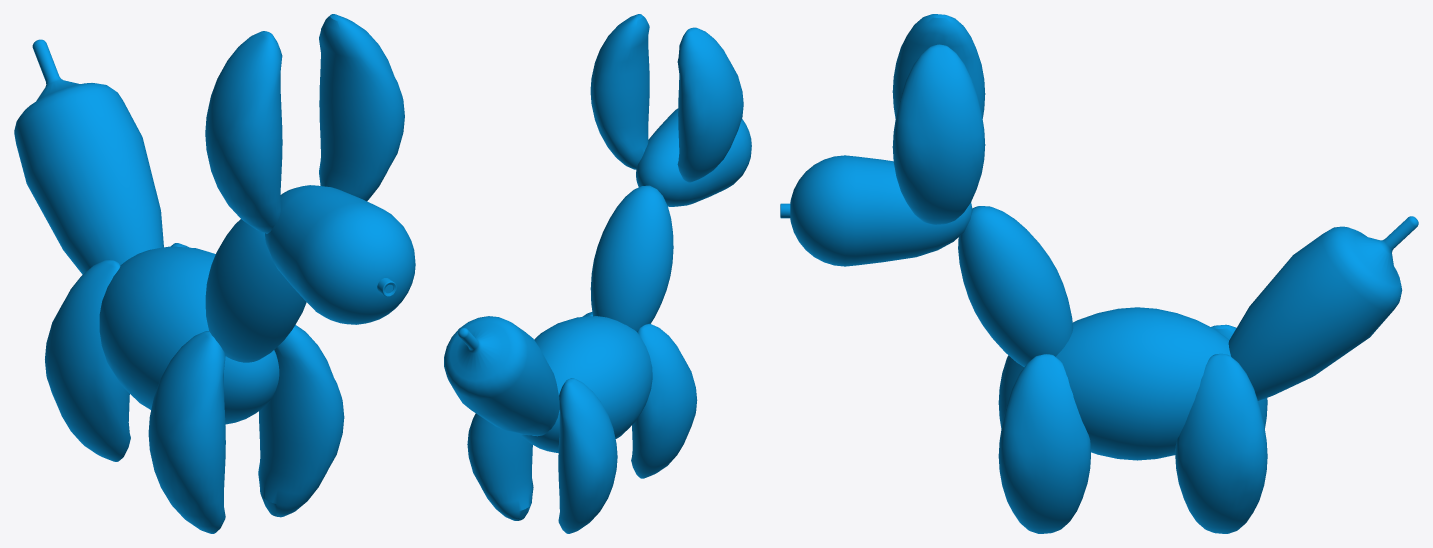
File: dog.fbx
3 views of the same model, side by side, from view 1: azimuth 30°, elevation 25°; view 2: azimuth 150°, elevation 25°; view 3: azimuth 270°, elevation 25° (orthographic). The views are drawn at different scales.
Visible parts, largest first — view 1: Dog; view 2: Dog; view 3: Dog.
Part boxes in pixels (box(x1,y1,x2,y2)): Dog: box(14, 14, 415, 533); Dog: box(444, 14, 751, 533); Dog: box(780, 14, 1418, 533).
Size of the model in its own units: 244 by 705 by 832.
